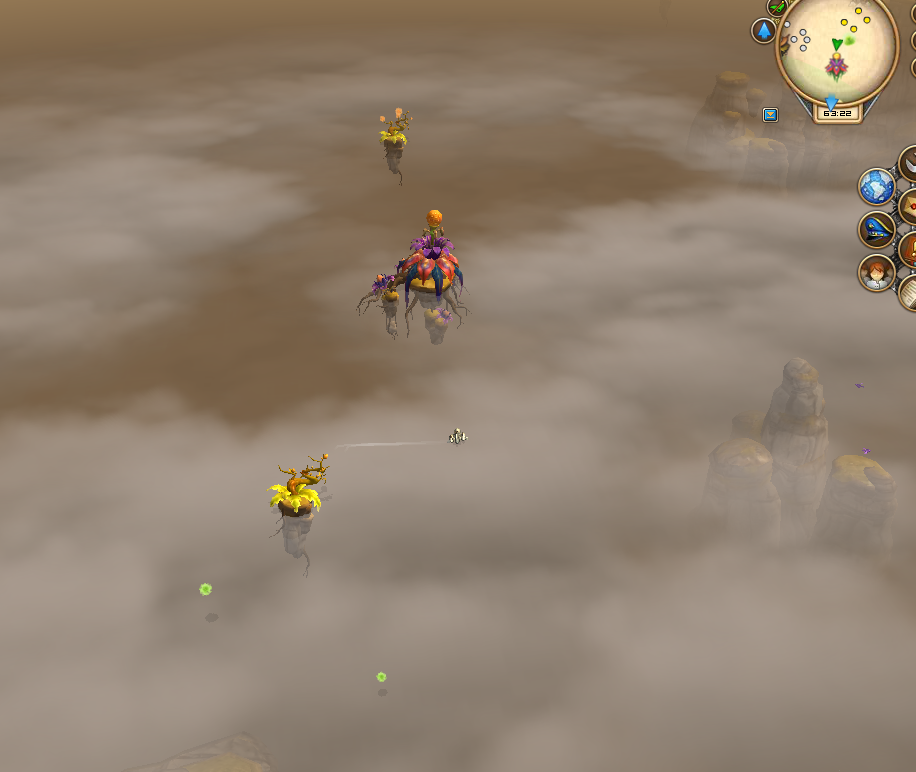dandelion-empty: (263, 445, 332, 571)
dandelion-full: (372, 100, 414, 180)
fluff: (195, 578, 216, 602), (371, 665, 390, 686)
